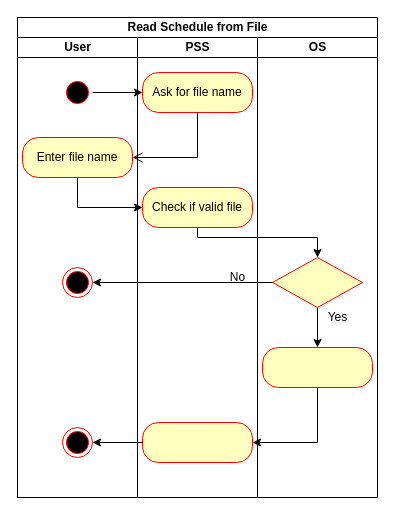
Image size: 395x515. Some labels were removed from this diagram. The centre of each missing label's shape, as x and y in pixels:
"Is file valid" belongs at point 317,282.
"Print schedule for User" belongs at point 197,442.
"Update schedule with file contents" belongs at point 317,367.
